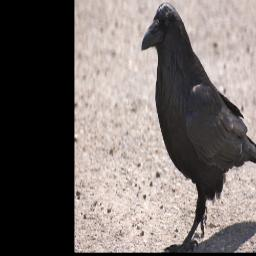Crow: (140, 1, 256, 252)
